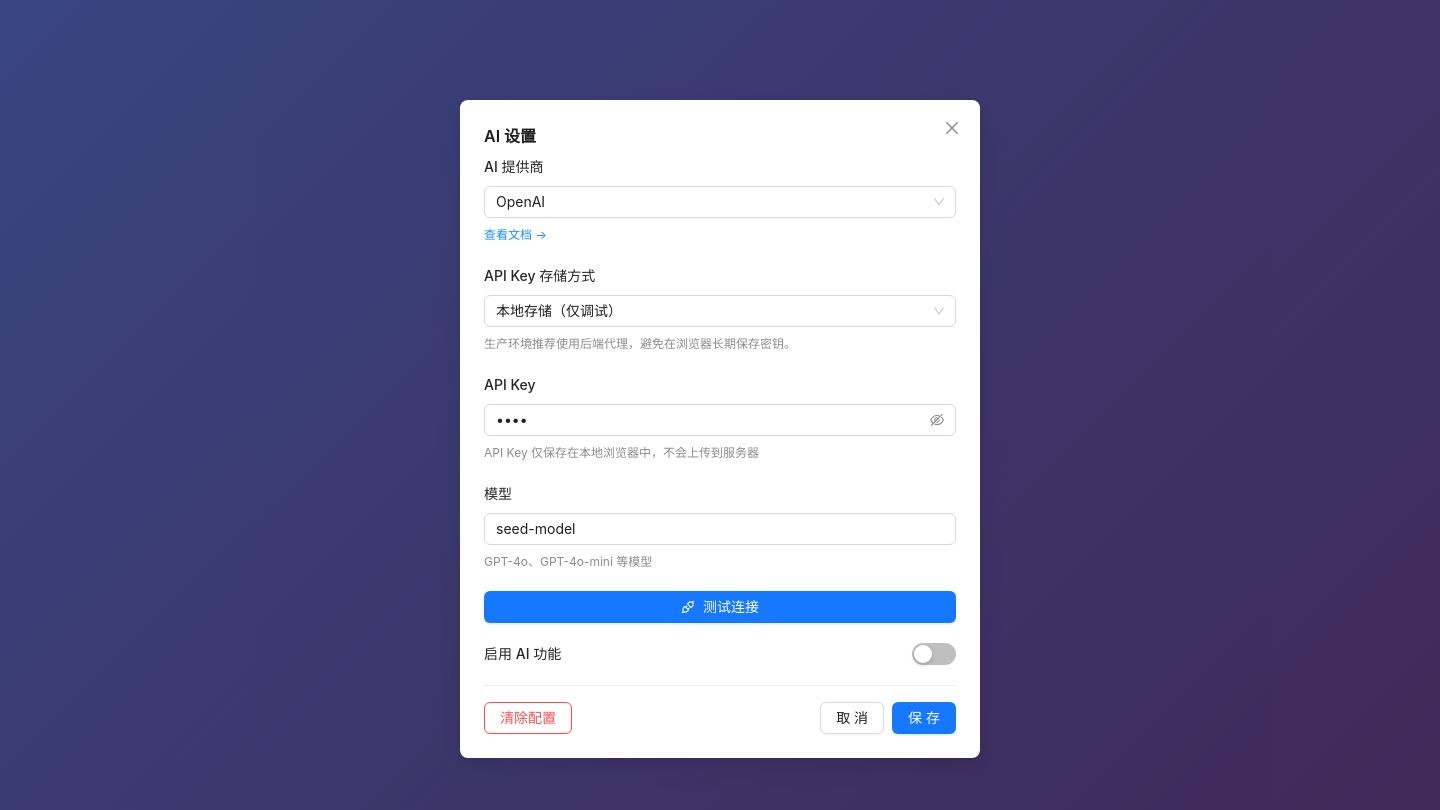
Scenario: AiSettingsModal 连接测试的四种结果 › 成功时按钮改口并显示延迟
Click the button "测试连接" at [720, 607], box [484, 591, 956, 623]
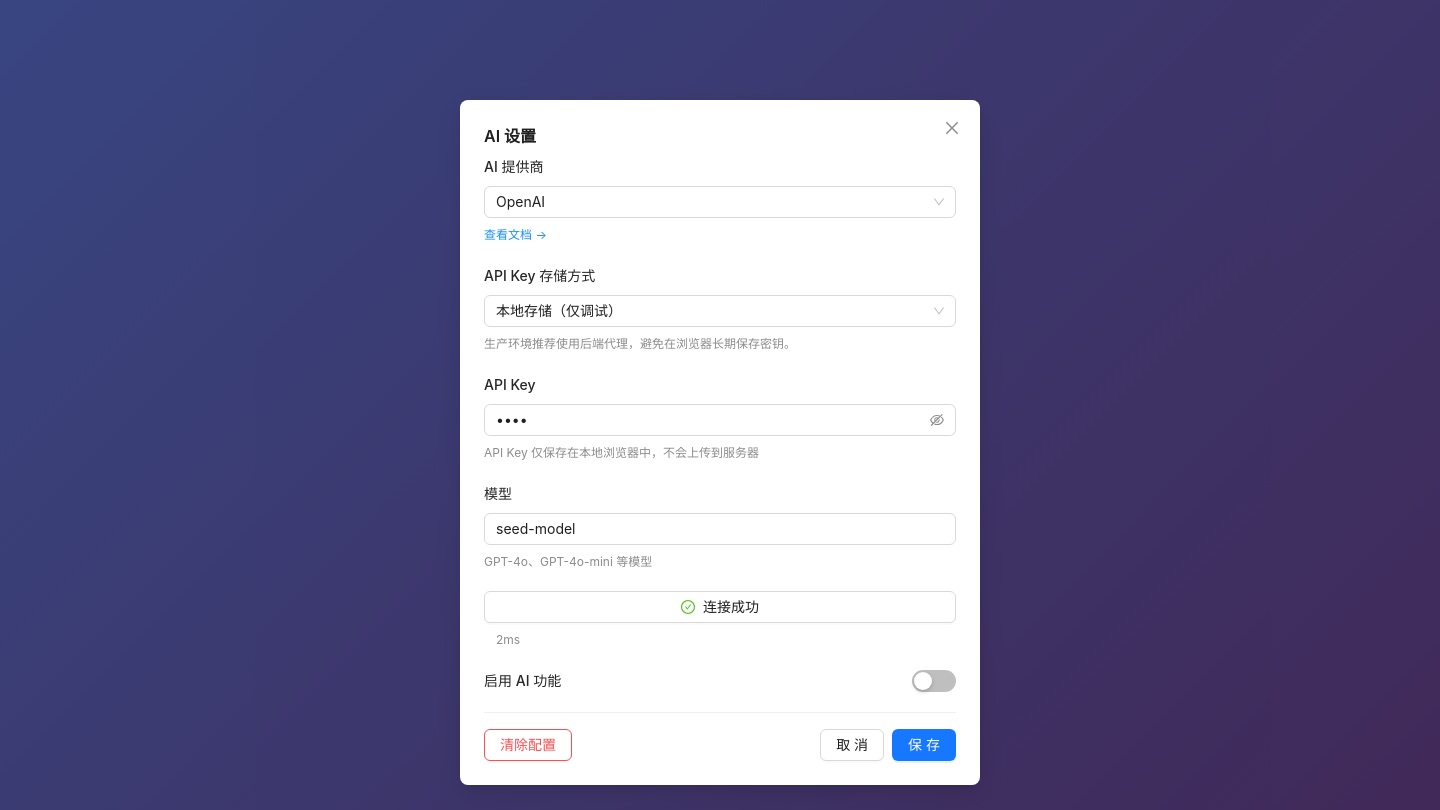
Result: the text "2ms" is shown at [496, 632, 520, 647]
